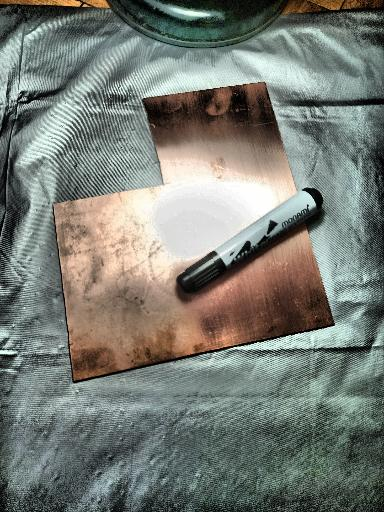marcador negro: (177, 189, 322, 293)
